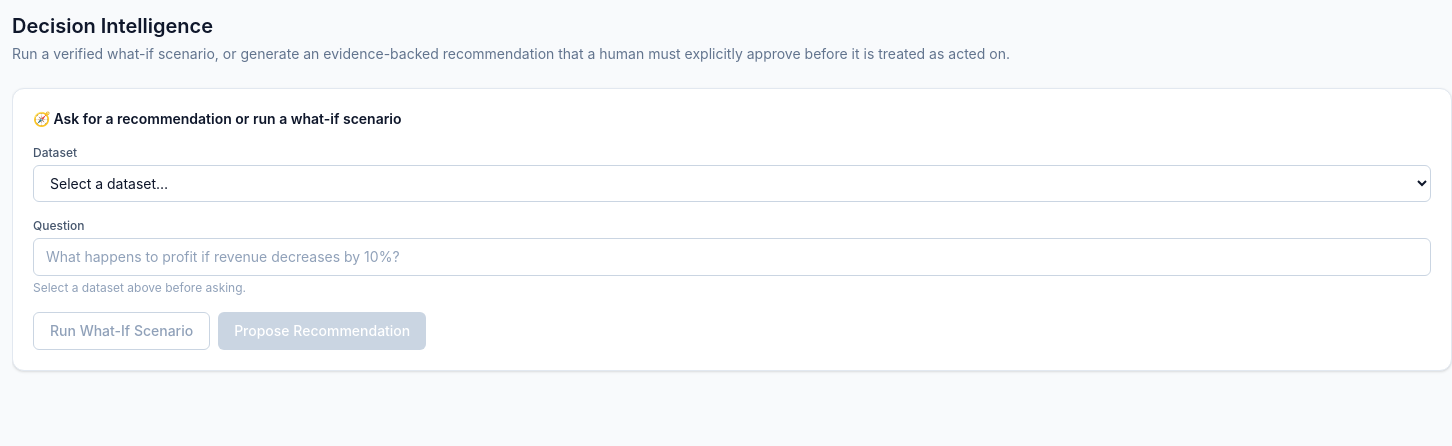
Test: DecisionsPage › shows an error message when the scenario request fails
Select "decision_finance_sample (15 rows)" in the dropdown labelled "Dataset" at (732, 184), box [33,165,1431,202]
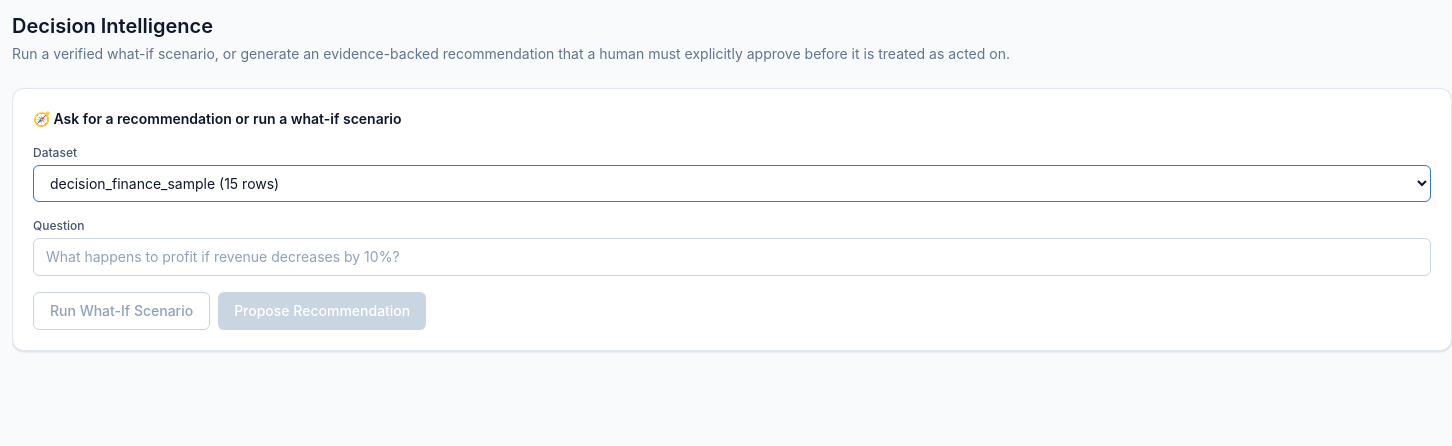
Type "what happens if revenue drops 10%?" into the field labelled "Question".
click(732, 257); type("what happens if revenue drops 10%?")  # box [33,238,1431,276]
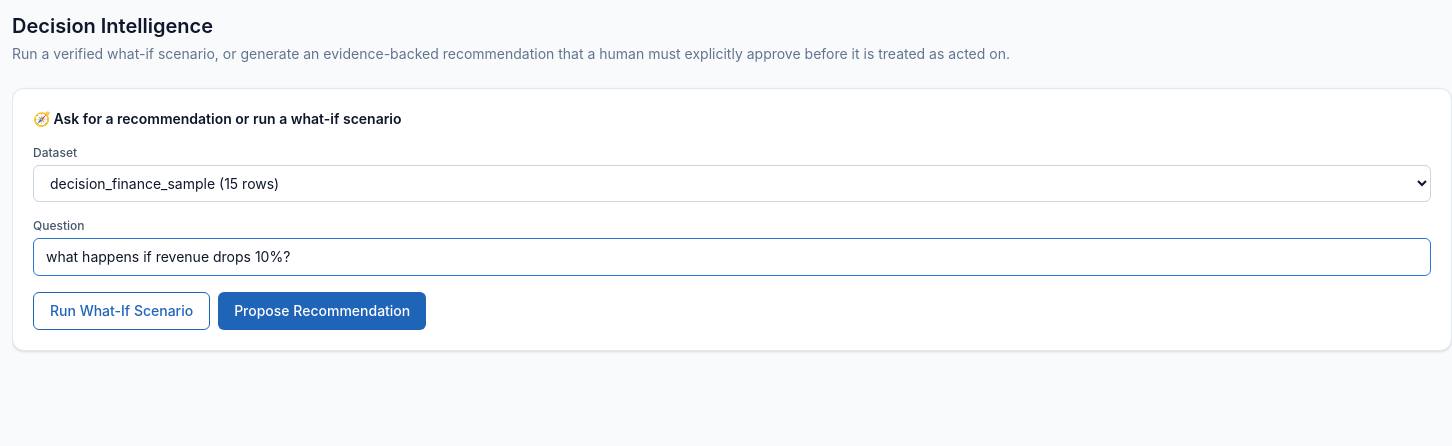
Click the button "Run What-If Scenario".
click(122, 311)  # box [33,292,210,330]
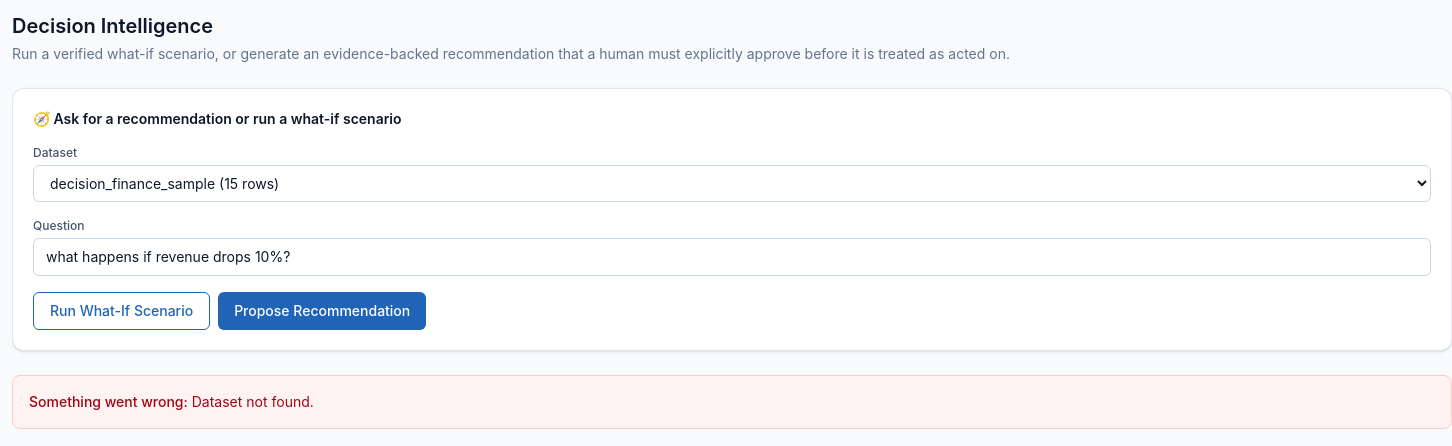
Expected: the text "Something went wrong: Dataset not found." is shown, [29,392,314,412]
